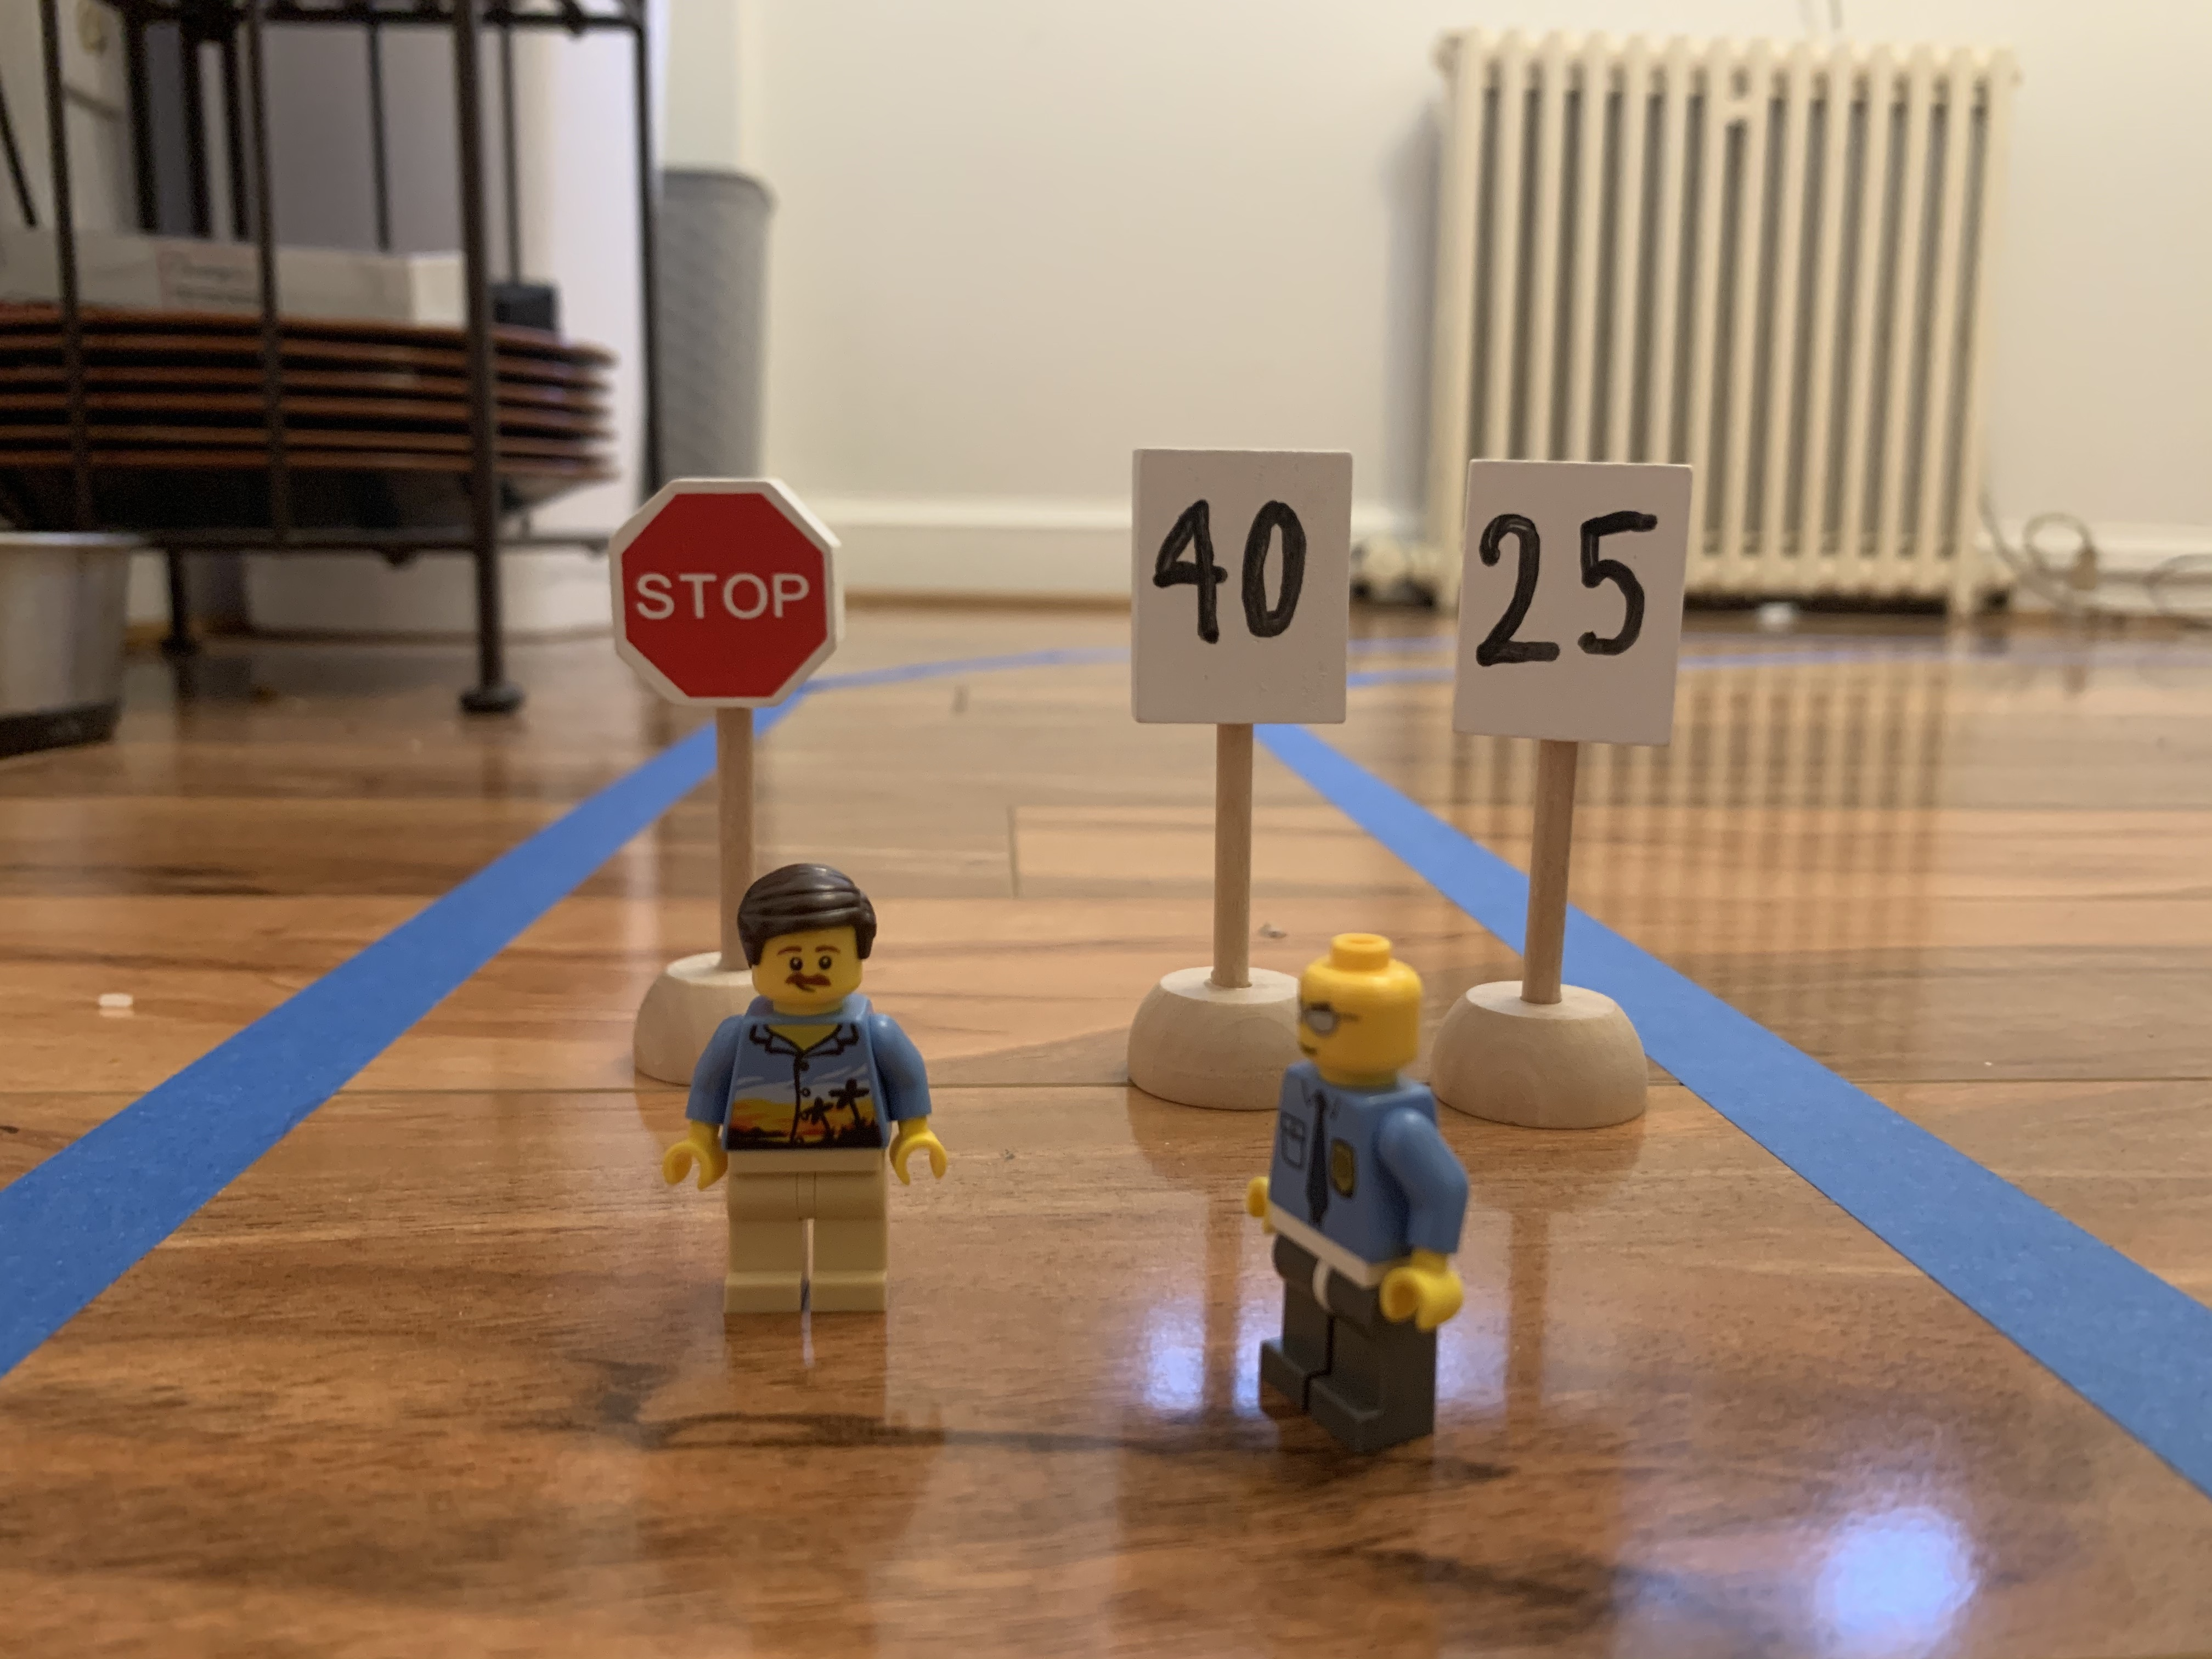Person: (660, 849, 955, 1334), (1227, 929, 1479, 1483)
Speed Limit 25: (1454, 443, 1679, 734), (608, 476, 840, 712)
Speed Limit 40: (1133, 446, 1348, 729)
